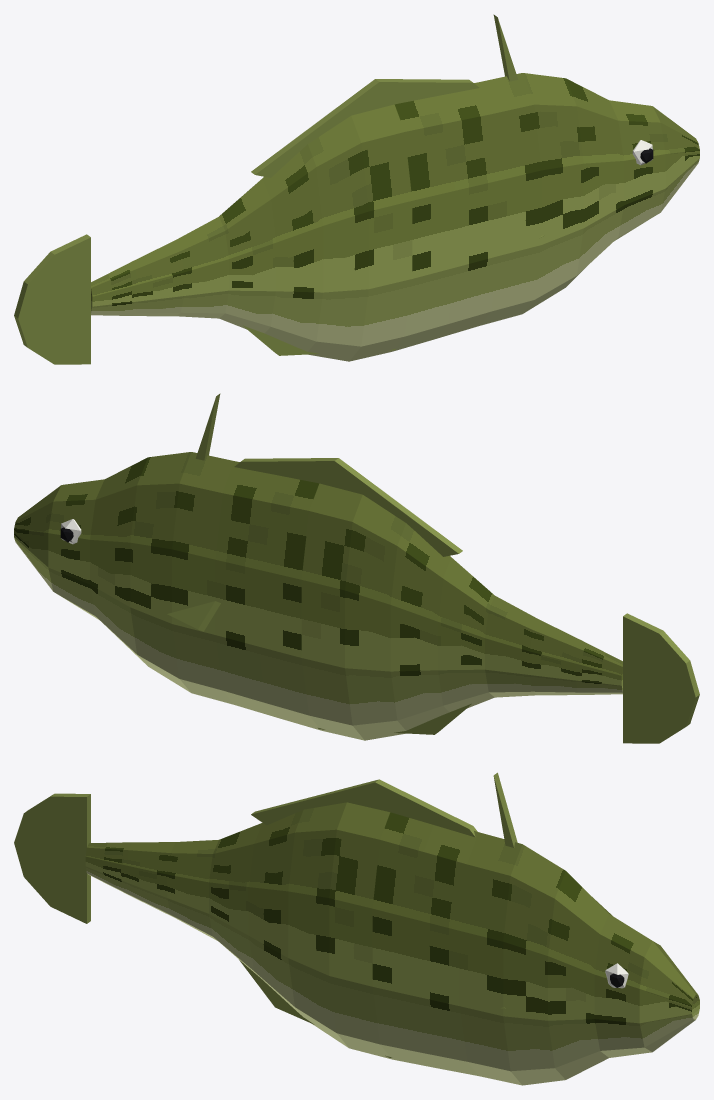
The model's file is pygmy_leatherjacket.glb.
The picture shows the model from 3 angles, top to bottom: view 1: azimuth 30°, elevation 25°; view 2: azimuth 150°, elevation 25°; view 3: azimuth 330°, elevation 25°; orthographic projection.
Parts seen in each view (by area): view 1: fish_pygmy_leatherjacket; view 2: fish_pygmy_leatherjacket; view 3: fish_pygmy_leatherjacket.
Boxes of the visible parts, <box> form: fish_pygmy_leatherjacket: <box>14,14,699,364</box>; fish_pygmy_leatherjacket: <box>14,393,699,743</box>; fish_pygmy_leatherjacket: <box>14,772,699,1085</box>.
Bounding box in the file's own units: 1.12 × 0.4893 × 0.1417.
Materials: 4 (1 with a texture image).
